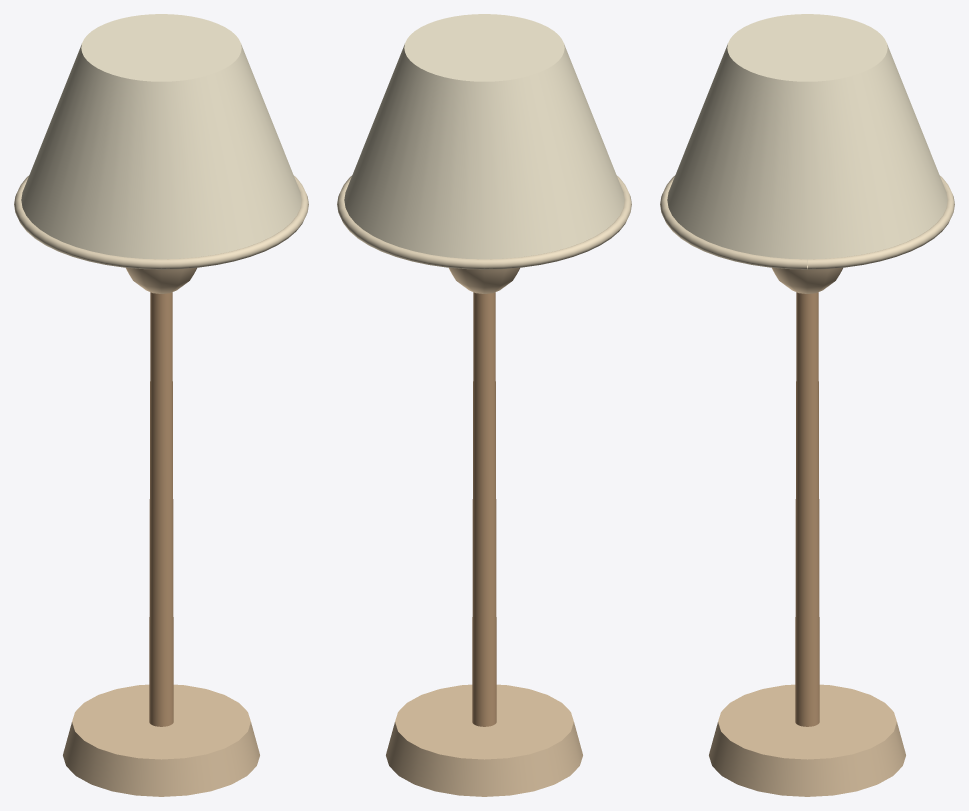
Rendered from natural-lamp.glb.
3 renders of one model, left to right at view 1: azimuth 30°, elevation 25°; view 2: azimuth 150°, elevation 25°; view 3: azimuth 270°, elevation 25°, orthographic.
Visible parts, largest first — view 1: Base.001; view 2: Base.001; view 3: Base.001.
Boxes of the visible parts, left/top/right/bottom form: Base.001: left=14, top=14, right=308, bottom=796; Base.001: left=337, top=14, right=631, bottom=796; Base.001: left=660, top=14, right=954, bottom=796.
Bounding box in the file's own units: 0.956 × 2.53 × 0.956.
